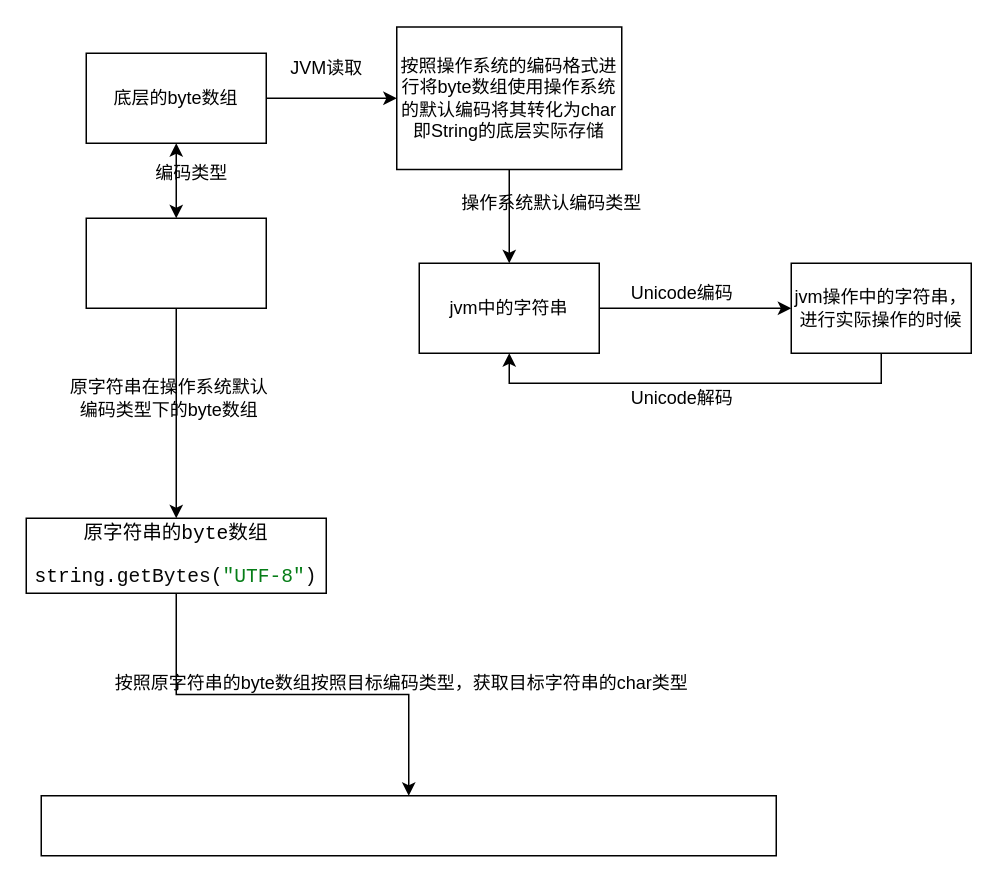
The diagram is 998 pixels wide and 882 high, and some of its shapes have lost their labels. Each missing label, with the centre of its shape:
String sttIso = new String( stt .getBytes( "UTF-8" ), "UTF-16LE" );: the point at 408,825
原字符串: the point at 175,262
